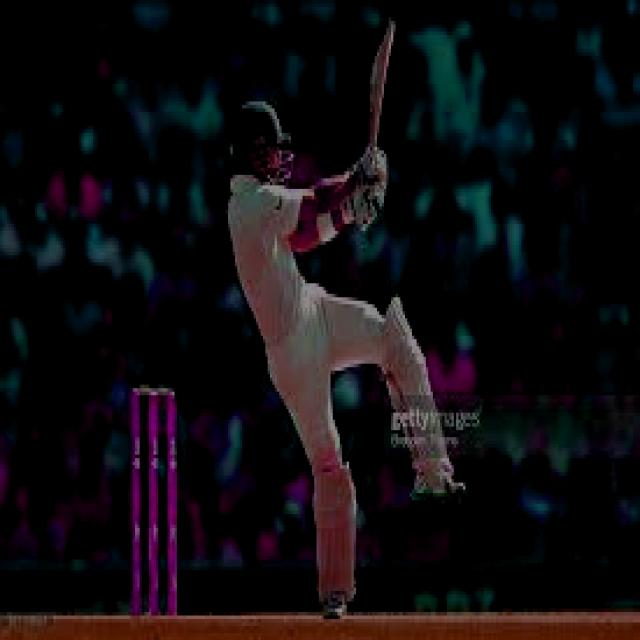toe: (382, 11, 402, 58)
